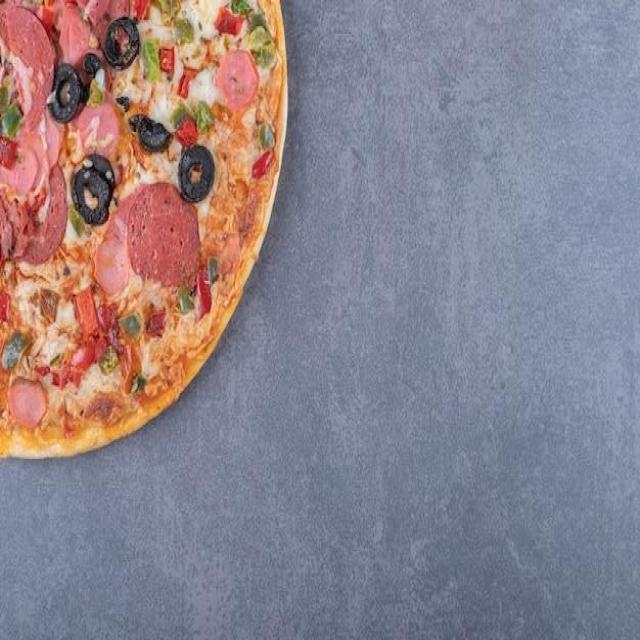olive: (70, 153, 114, 224), (177, 144, 214, 202), (49, 63, 80, 124), (103, 17, 140, 68), (128, 114, 171, 153), (83, 52, 100, 78)
pepperoni: (128, 182, 199, 292), (5, 5, 54, 135), (26, 162, 66, 264)
pizza: (0, 0, 289, 456)
